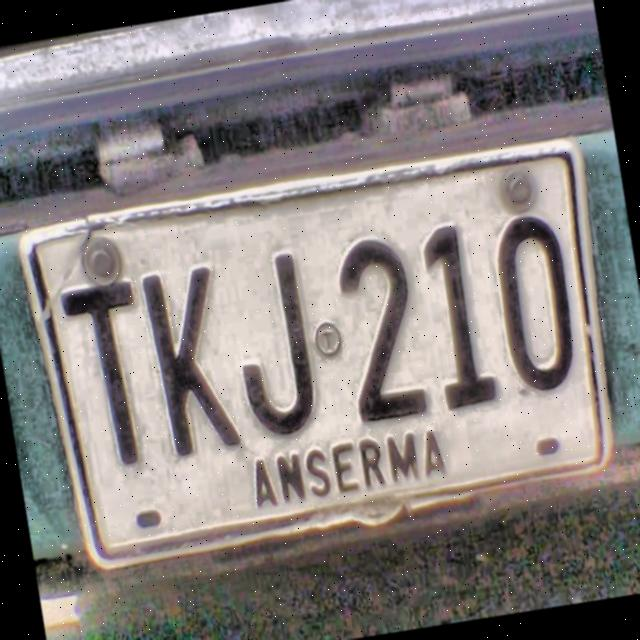plate: (20, 139, 613, 571)
